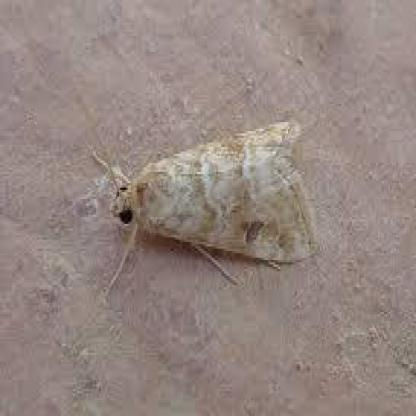Hellula undalis: (86, 118, 320, 309)
